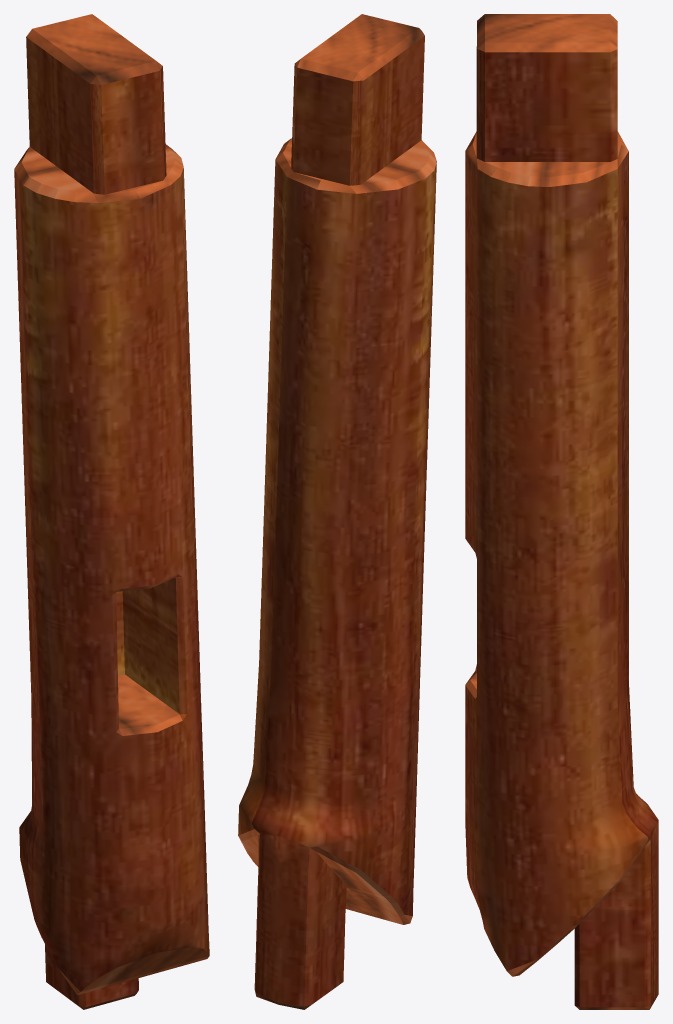
The model's file is ytsy_J_shugan_017.FBX.
The picture shows the model from 3 angles, left to right: view 1: azimuth 30°, elevation 25°; view 2: azimuth 150°, elevation 25°; view 3: azimuth 270°, elevation 25°; orthographic projection. The views are drawn at different scales.
Parts seen in each view (by area): view 1: ytsy_J_shugan_017; view 2: ytsy_J_shugan_017; view 3: ytsy_J_shugan_017.
Boxes of the visible parts, x1,y1,x2,y2 form: ytsy_J_shugan_017: (14,14,209,1009); ytsy_J_shugan_017: (238,14,436,1009); ytsy_J_shugan_017: (465,14,658,1009).
Bounding box in the file's own units: 2.31 × 12.5 × 2.29.
